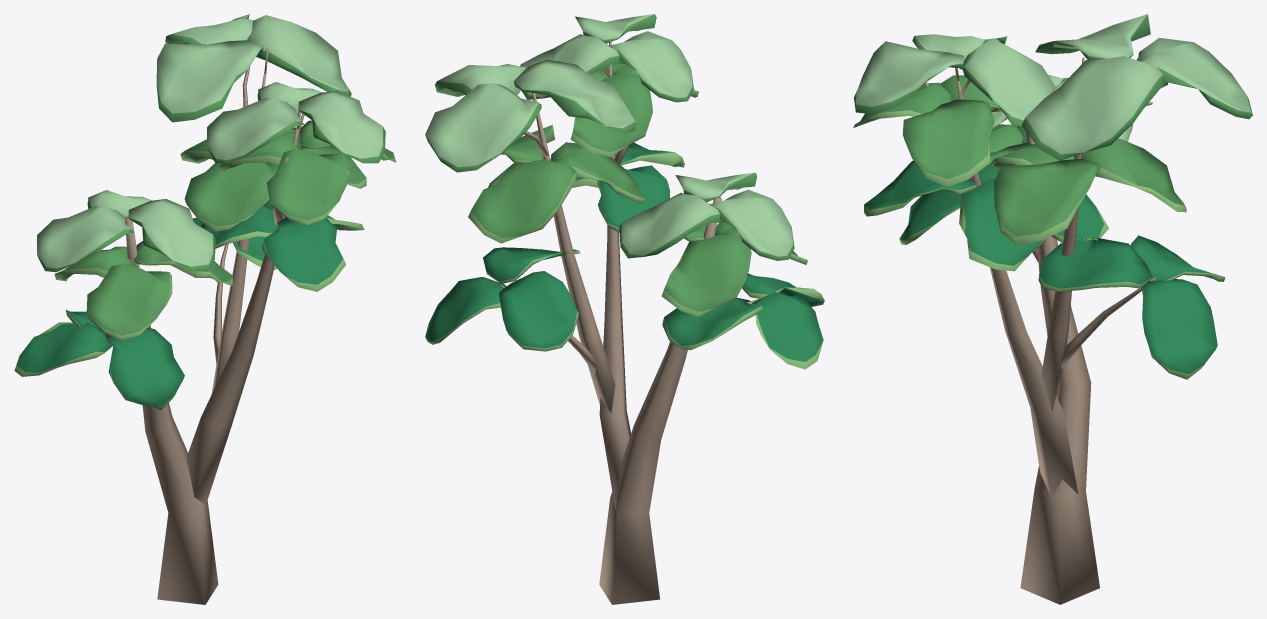
Rendered from oak1-lod2.glb.
3 views of the same model, side by side, from view 1: azimuth 30°, elevation 25°; view 2: azimuth 150°, elevation 25°; view 3: azimuth 270°, elevation 25° (orthographic). The views are drawn at different scales.
Visible parts, largest first — view 1: oak1-lod2; view 2: oak1-lod2; view 3: oak1-lod2.
Boxes of the visible parts, bbox=[...] form: oak1-lod2: bbox=[14, 14, 396, 604]; oak1-lod2: bbox=[425, 14, 824, 604]; oak1-lod2: bbox=[853, 14, 1252, 604].
Bounding box in the file's own units: 8.97 × 12.8 × 7.87.
